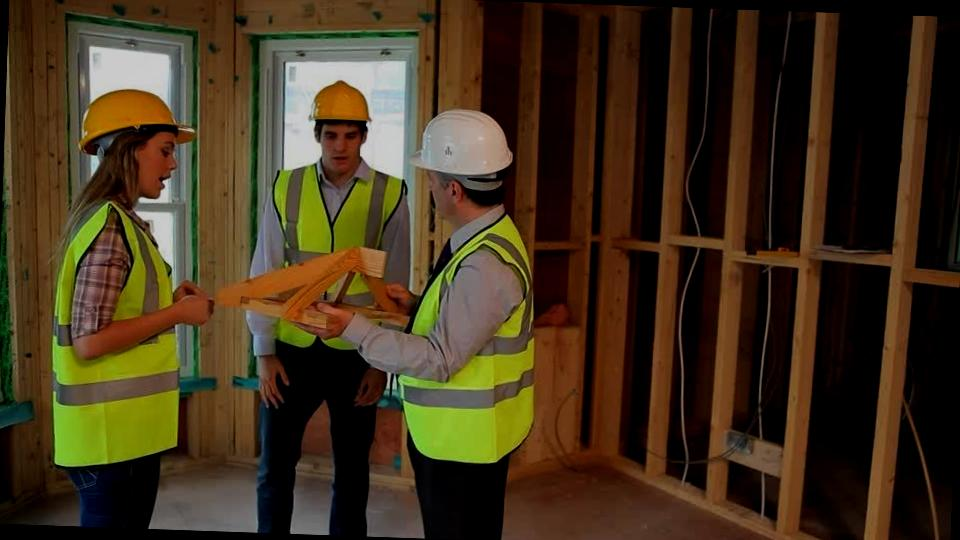helmet: (401, 98, 529, 190), (70, 76, 206, 156), (301, 70, 381, 132)
person: (39, 60, 219, 524), (234, 72, 415, 526), (376, 91, 556, 535)
